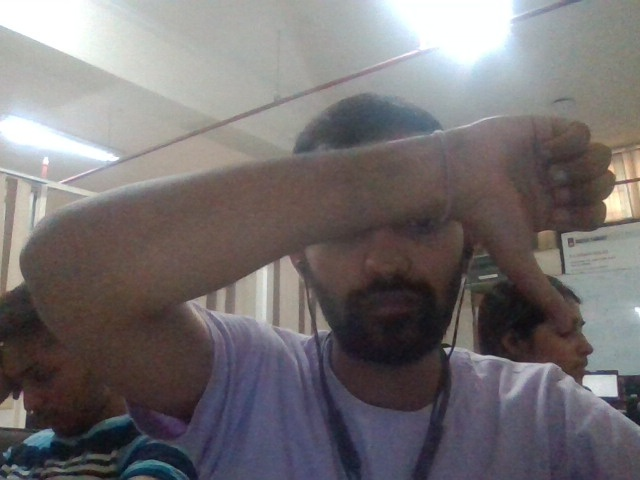No: (458, 113, 619, 320)
